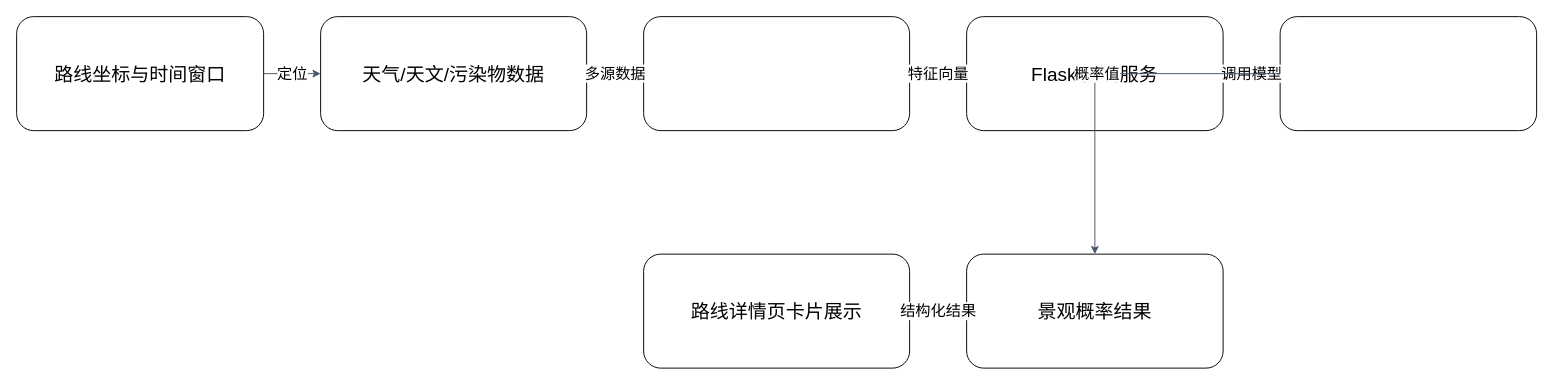
This 1553x385 diagram has some shape labels left out. Here are the shapes that lost their labels. From the top down, the centre of each, then its label:
At point (776, 73): "特征清洗与构造".
At point (1408, 73): "随机森林推理".
